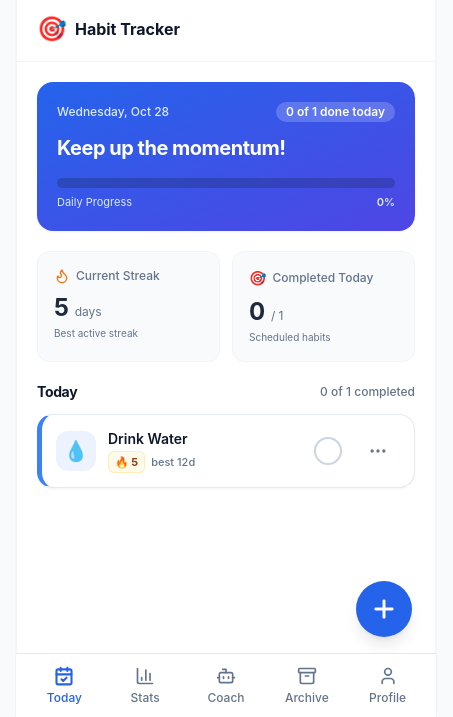
Test: DashboardPage Mobile View › optimistically toggles check-in and confirms with API
The width and height of the screenshot is (453, 717).
Note: Click card to check
Click the button named "toggle drink water, currently incomplete" at (328, 451), box [306,429,350,473]
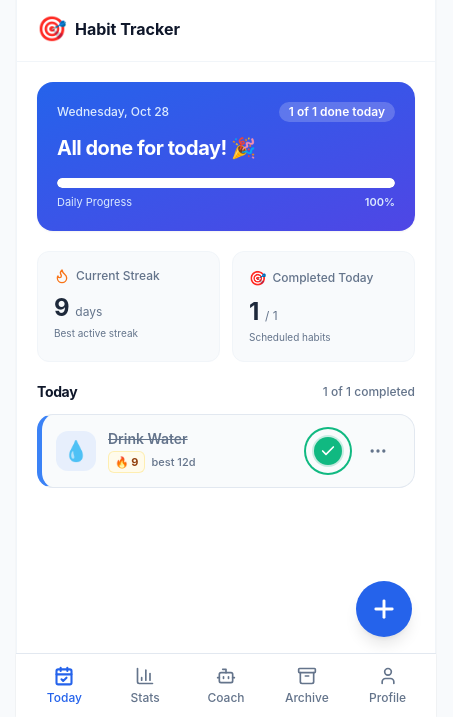
Expected: the text "🔥 9" is shown, [108,450,146,473]
Expected: the text "1 of 1 done today" is shown, [279,102,395,122]
